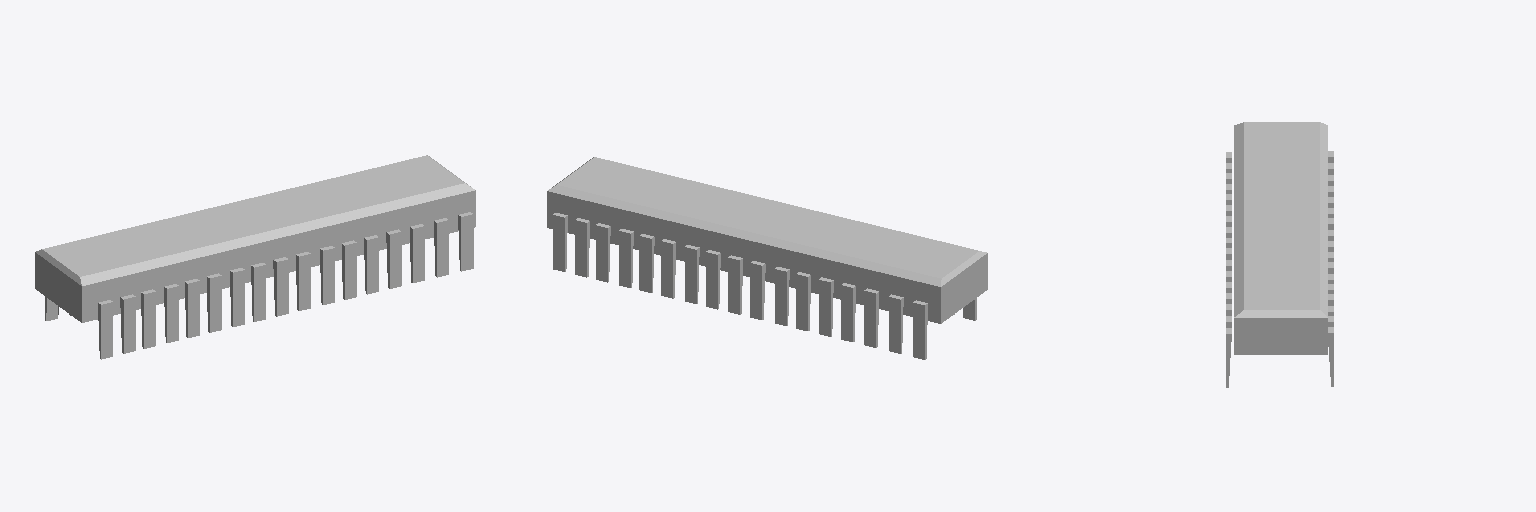
The model's file is cpu .obj.
3 renders of one model, left to right at view 1: azimuth 30°, elevation 25°; view 2: azimuth 150°, elevation 25°; view 3: azimuth 270°, elevation 25°, orthographic.
Visible parts, largest first — view 1: Mesh35 Model, Mesh1 Group2 Group1 Model, Mesh7 Group8 Group1 Model, Mesh13 Group14 Group1 Model, Mesh3 Group4 Group1 Model, Mesh16 Group17 Group1 Model, Mesh10 Group11 Group1 Model, Mesh8 Group9 Group1 Model, Mesh14 Group15 Group1 Model, Mesh6 Group7 Group1 Model, Mesh11 Group12 Group1 Model, Mesh9 Group10 Group1 Model (+6 smaller); view 2: Mesh35 Model, Mesh31 Group33 Group19 Model, Mesh23 Group25 Group19 Model, Mesh27 Group29 Group19 Model, Mesh25 Group27 Group19 Model, Mesh33 Group35 Group19 Model, Mesh20 Group22 Group19 Model, Mesh30 Group32 Group19 Model, Mesh24 Group26 Group19 Model, Mesh18 Group20 Group19 Model, Mesh19 Group21 Group19 Model, Mesh22 Group24 Group19 Model (+6 smaller); view 3: Mesh35 Model.
Part boxes in pixels (bbox=[...]): Mesh35 Model: bbox=[35, 155, 475, 322]; Mesh1 Group2 Group1 Model: bbox=[458, 212, 473, 271]; Mesh7 Group8 Group1 Model: bbox=[386, 229, 401, 288]; Mesh13 Group14 Group1 Model: bbox=[273, 257, 288, 316]; Mesh3 Group4 Group1 Model: bbox=[120, 294, 135, 353]; Mesh16 Group17 Group1 Model: bbox=[342, 240, 356, 299]; Mesh10 Group11 Group1 Model: bbox=[207, 273, 221, 332]; Mesh8 Group9 Group1 Model: bbox=[410, 224, 424, 282]; Mesh14 Group15 Group1 Model: bbox=[296, 252, 310, 310]; Mesh6 Group7 Group1 Model: bbox=[185, 279, 199, 337]; Mesh11 Group12 Group1 Model: bbox=[230, 268, 244, 326]; Mesh9 Group10 Group1 Model: bbox=[434, 218, 448, 277]; Mesh35 Model: bbox=[547, 157, 987, 323]; Mesh31 Group33 Group19 Model: bbox=[750, 261, 765, 319]; Mesh23 Group25 Group19 Model: bbox=[639, 234, 654, 292]; Mesh27 Group29 Group19 Model: bbox=[661, 239, 675, 298]; Mesh25 Group27 Group19 Model: bbox=[864, 288, 878, 347]; Mesh33 Group35 Group19 Model: bbox=[796, 272, 810, 330]; Mesh20 Group22 Group19 Model: bbox=[575, 218, 589, 277]; Mesh30 Group32 Group19 Model: bbox=[728, 255, 742, 314]; Mesh24 Group26 Group19 Model: bbox=[841, 283, 855, 341]; Mesh18 Group20 Group19 Model: bbox=[913, 300, 927, 359]; Mesh19 Group21 Group19 Model: bbox=[553, 213, 567, 271]; Mesh22 Group24 Group19 Model: bbox=[619, 229, 633, 287]; Mesh35 Model: bbox=[1234, 122, 1327, 354].
Size of the model in its own units: 6.03 by 1.15 by 1.44.